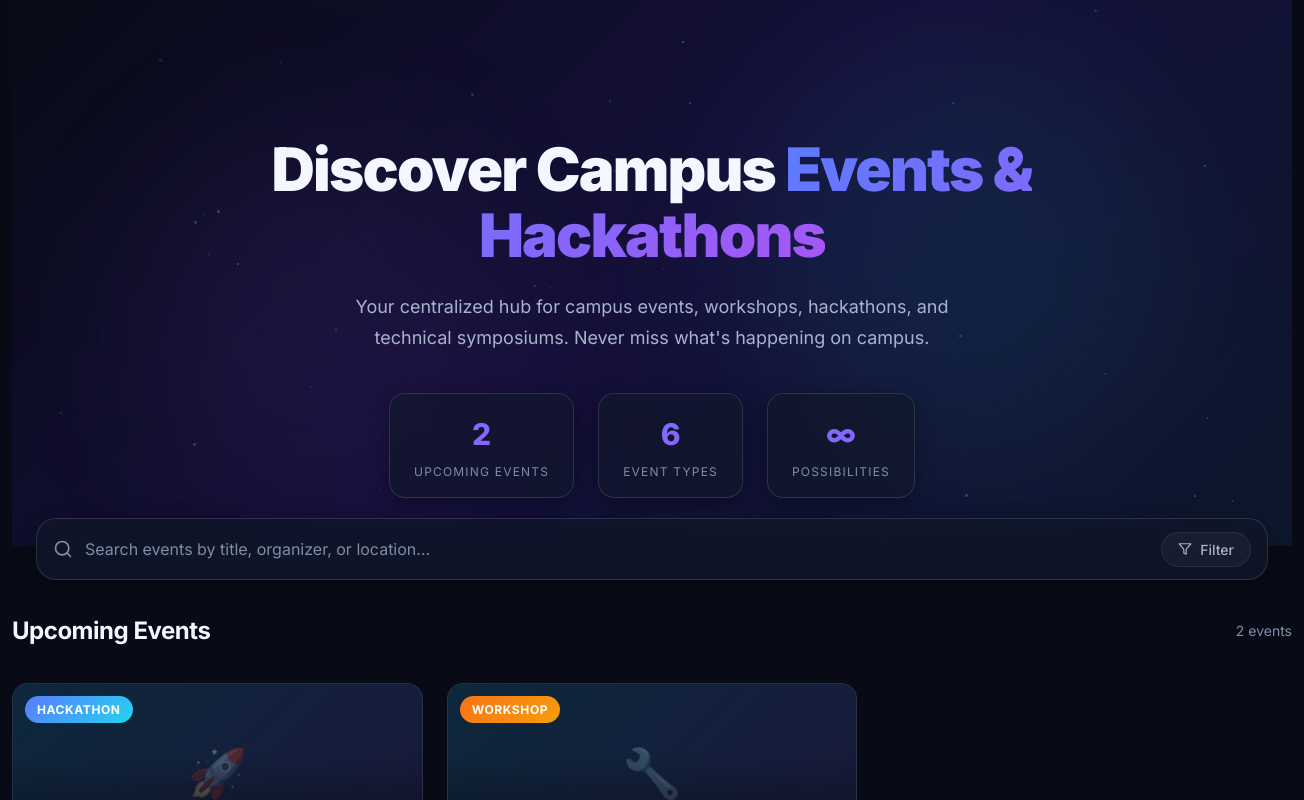
HomePage Component › displays empty state when no events match the search filter
Type "NonExistentString123" into the field with placeholder "Search events by title, organizer, or location...".
click(617, 549); type("NonExistentString123")  # box x1=85 y1=531 x2=1149 y2=567
(page scrolled)
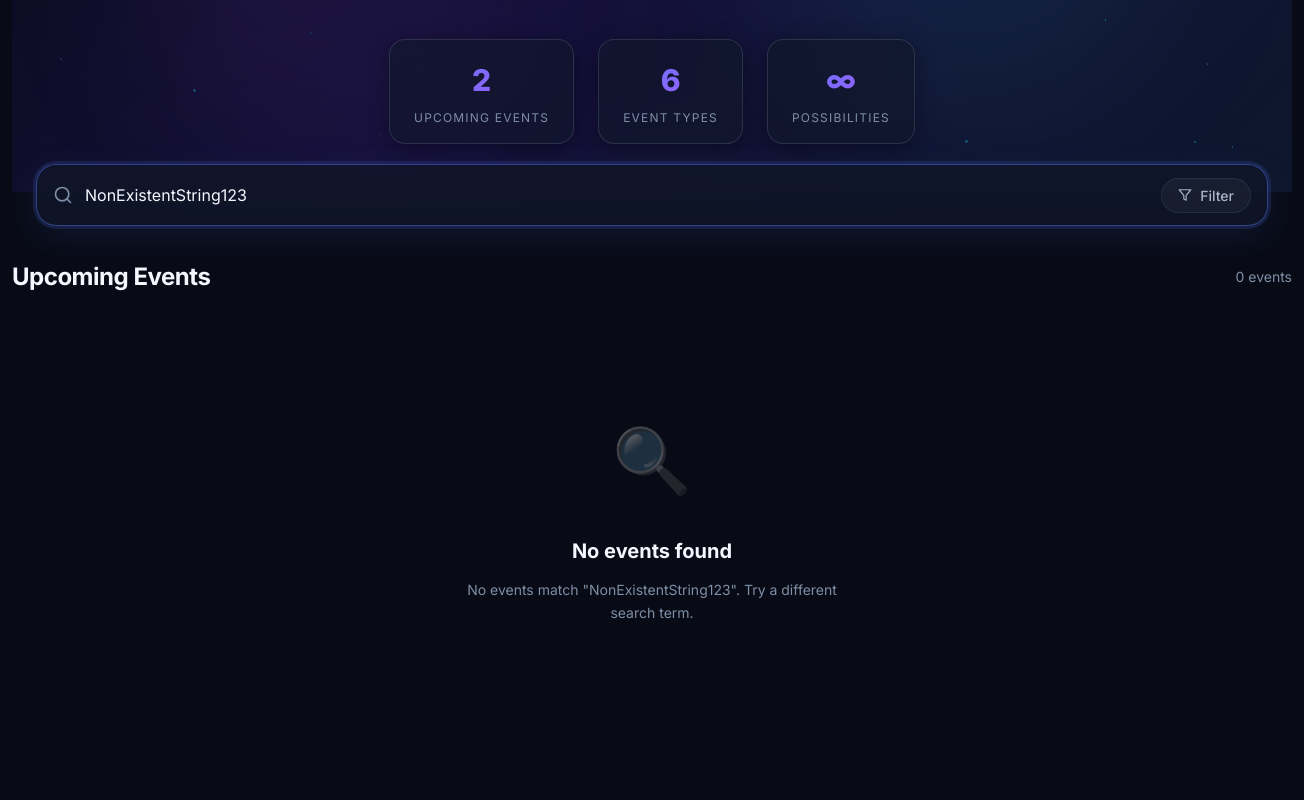
Check: the heading "No events found" is shown, box x1=572 y1=535 x2=732 y2=567
Check: the text "No events match \"NonExistentString123\"" is shown, box x1=467 y1=581 x2=837 y2=621
